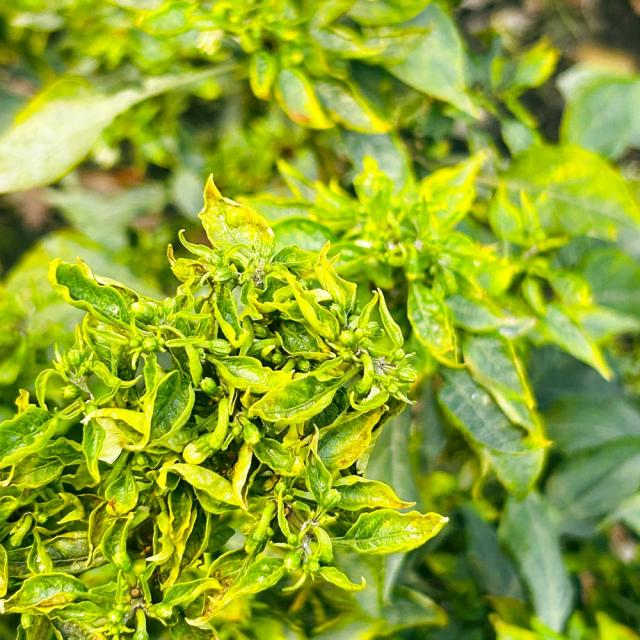Chilli_Leaf_Curl: (1, 172, 450, 638)
